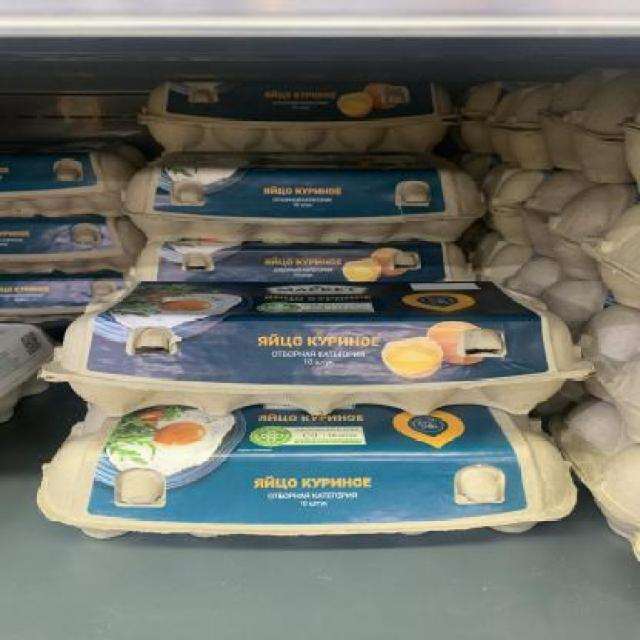egg: (35, 409, 582, 546), (41, 282, 594, 412), (123, 156, 484, 244), (134, 76, 458, 154), (137, 244, 476, 284)
